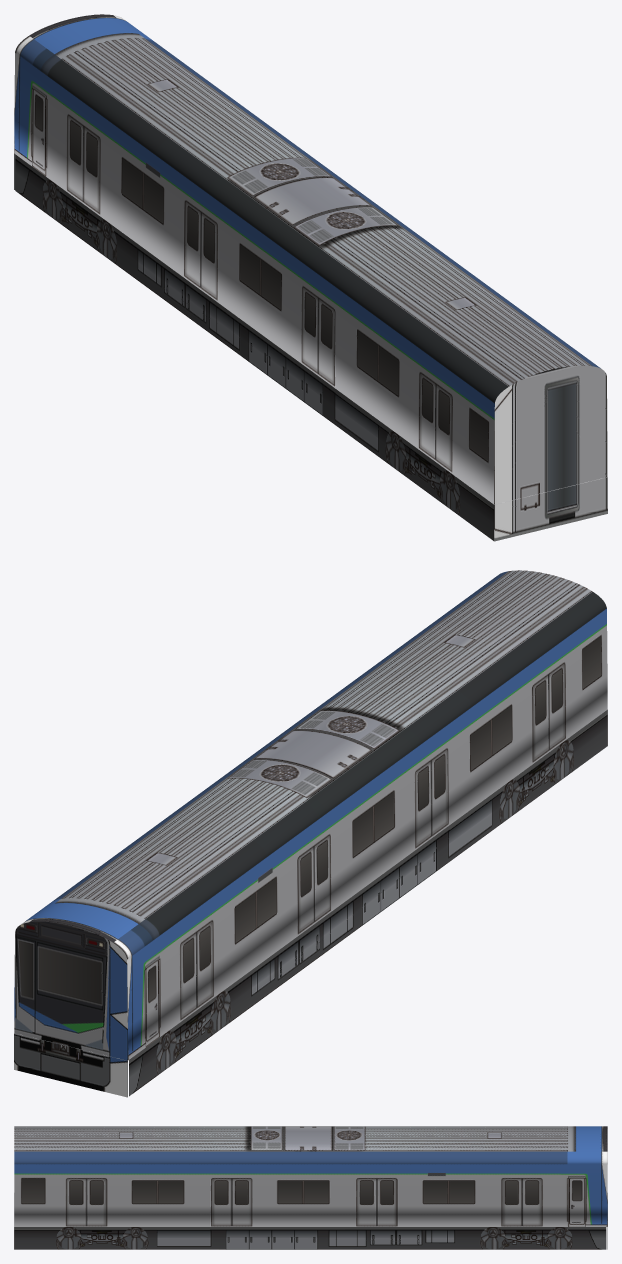
The model's file is car2.glb.
3 renders of one model, top to bottom at view 1: azimuth 30°, elevation 25°; view 2: azimuth 150°, elevation 25°; view 3: azimuth 270°, elevation 25°, orthographic. The views are drawn at different scales.
Visible parts, largest first — view 1: tobu-80000-car2; view 2: tobu-80000-car2; view 3: tobu-80000-car2.
Part boxes in pixels (x1,y1,x2,y2): tobu-80000-car2: (14,14,607,541); tobu-80000-car2: (14,570,607,1097); tobu-80000-car2: (14,1126,607,1249).
Bounding box in the file's own units: 2.8 × 3.71 × 20.5.
Materials: 9 (8 with a texture image).
